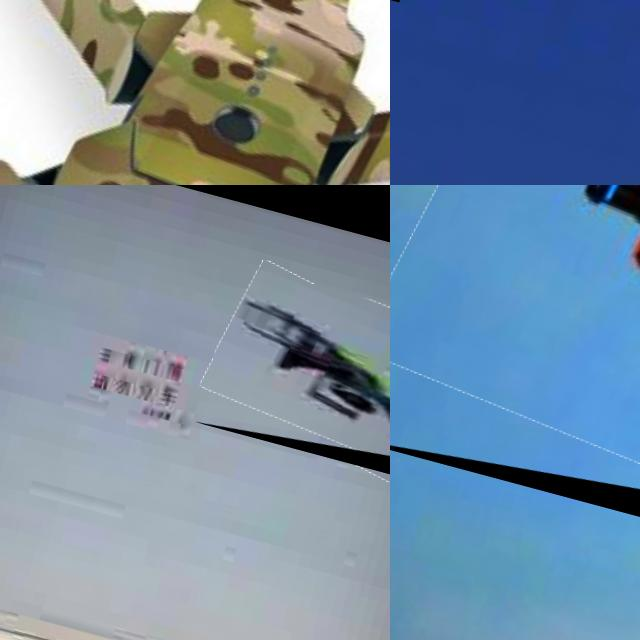0: (195, 263, 390, 483)
drone: (390, 185, 640, 592), (0, 0, 390, 185)
